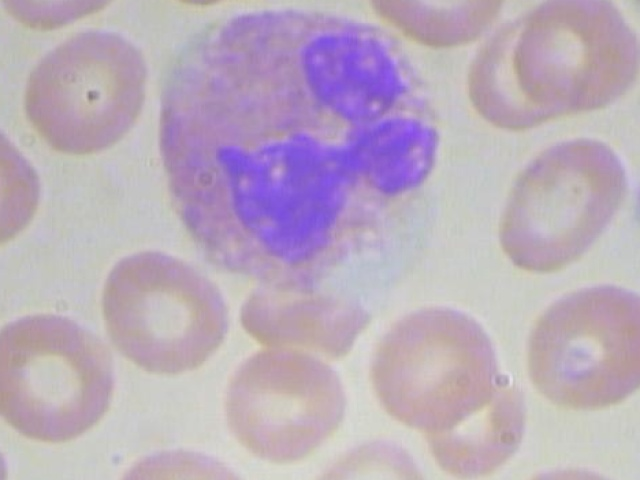Platelets: (629, 157, 640, 249), (626, 0, 640, 9)
RBC: (355, 290, 513, 431), (481, 130, 636, 273), (15, 23, 161, 166), (90, 238, 237, 374), (518, 280, 640, 420), (217, 339, 352, 463), (507, 0, 640, 120), (0, 307, 117, 443), (113, 430, 260, 480), (306, 431, 437, 480), (494, 454, 635, 480), (0, 402, 17, 480)
WBC: (135, 5, 453, 294)
